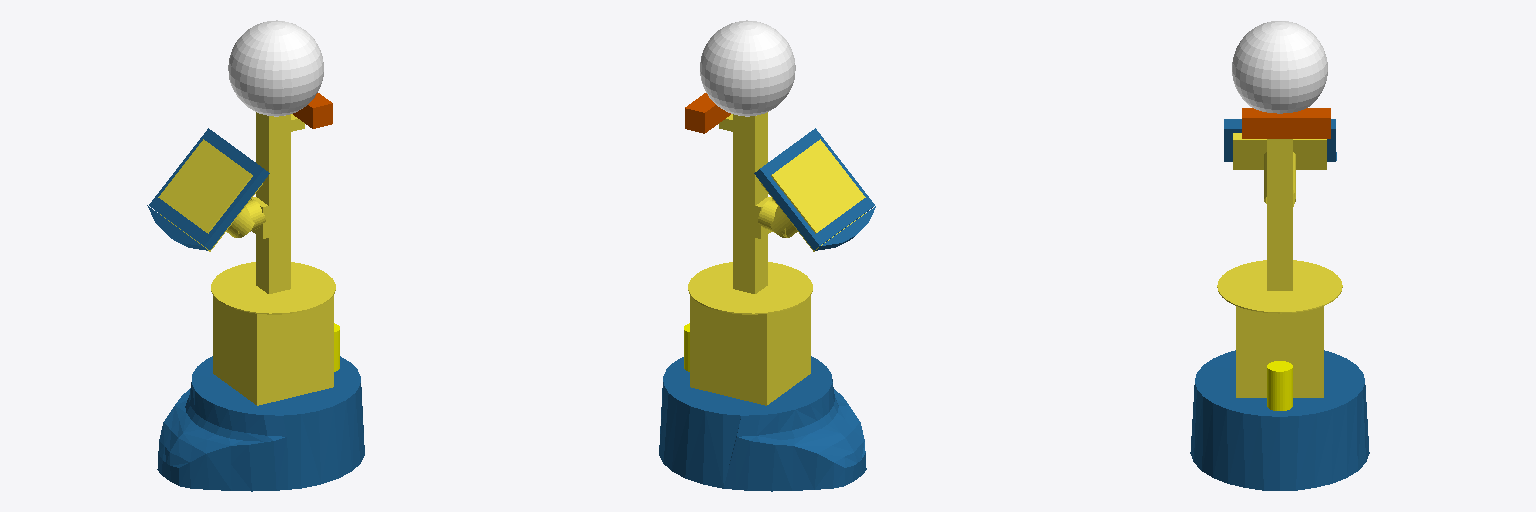
robot.urdf — scitosG5:
<?xml version="1.0" encoding="utf-8"?>
<!-- =================================================================================== -->
<!-- |    This document was autogenerated by xacro from [local-path]/workspaces/driver_ws/src/scitos-g5/scitos_common/scitos_description/urdf/cs_scitos.xacro | -->
<!-- |    EDITING THIS FILE BY HAND IS NOT RECOMMENDED                                 | -->
<!-- =================================================================================== -->
<robot name="scitosG5" xmlns:body="http://playerstage.sourceforge.net/gazebo/xmlschema/#body" xmlns:controller="http://playerstage.sourceforge.net/gazebo/xmlschema/#controller" xmlns:gazebo="http://playerstage.sourceforge.net/gazebo/xmlschema/#gz" xmlns:geom="http://playerstage.sourceforge.net/gazebo/xmlschema/#geom" xmlns:interface="http://playerstage.sourceforge.net/gazebo/xmlschema/#interface" xmlns:joint="http://playerstage.sourceforge.net/gazebo/xmlschema/#joint" xmlns:model="http://playerstage.sourceforge.net/gazebo/xmlschema/#model" xmlns:physics="http://playerstage.sourceforge.net/gazebo/xmlschema/#physics" xmlns:renderable="http://playerstage.sourceforge.net/gazebo/xmlschema/#renderable" xmlns:rendering="http://playerstage.sourceforge.net/gazebo/xmlschema/#rendering" xmlns:sensor="http://playerstage.sourceforge.net/gazebo/xmlschema/#sensor" xmlns:xi="http://www.w3.org/2001/XInclude">
  <!-- materials -->
  <material name="Red">
    <color rgba="0.8 0.0 0.0 1.0"/>
  </material>
  <material name="Black">
    <color rgba="0.02 0.02 0.02 1.0"/>
  </material>
  <material name="Aluminium">
    <color rgba="0.65 0.65 0.65 1.0"/>
  </material>
  <material name="white">
    <color rgba="1 1 1 1"/>
  </material>
  <material name="black">
    <color rgba="0 0 0 1"/>
  </material>
  <material name="red">
    <color rgba="1 0 0 1"/>
  </material>
  <material name="green">
    <color rgba="0 1 0 1"/>
  </material>
  <material name="blue">
    <color rgba="0 0 1 1"/>
  </material>
  <material name="yellow">
    <color rgba="1 1 0 1"/>
  </material>
  <material name="darkgray">
    <color rgba="0.3 0.3 0.3 1"/>
  </material>
  <material name="gray">
    <color rgba="0.7 0.7 0.7 1"/>
  </material>
  <material name="glass">
    <color rgba="1 1 1 0.2"/>
  </material>
  <!-- base_footprint : a fictional link that is on the floor plane, needed for move_base -->
  <link name="base_footprint">
    <visual>
      <origin rpy="0 0 0" xyz="0 0 0"/>
      <geometry>
        <box size="0 0 0"/>
      </geometry>
      <material name="Red"/>
    </visual>
    <collision>
      <origin rpy="0 0 0" xyz="0 0 0"/>
      <geometry>
        <box size="0 0 0"/>
      </geometry>
    </collision>
  </link>
  <!-- base_prismatic : a fictional link that is on the floor plane, needed for moveit -->
  <link name="base_prismatic">
    <visual>
      <origin rpy="0 0 0" xyz="0 0 0"/>
      <geometry>
        <box size="0 0 0"/>
      </geometry>
      <material name="Red"/>
    </visual>
    <collision>
      <origin rpy="0 0 0" xyz="0 0 0"/>
      <geometry>
        <box size="0 0 0"/>
      </geometry>
    </collision>
  </link>
  <!-- base_revolute : a fictional link that is on the floor plane, needed for moveit -->
  <link name="base_revolute">
    <visual>
      <origin rpy="0 0 0" xyz="0 0 0"/>
      <geometry>
        <box size="0 0 0"/>
      </geometry>
      <material name="Red"/>
    </visual>
    <collision>
      <origin rpy="0 0 0" xyz="0 0 0"/>
      <geometry>
        <box size="0 0 0"/>
      </geometry>
    </collision>
  </link>
  <!-- Base link is the actual robot body -->
  <link name="base_link">
    <visual>
      <origin rpy="0 0 0" xyz="0 0 0"/>
      <geometry>
        <mesh filename="package://scitos_description/meshes/cs_scitos_kinect_fixture.dae"/>
      </geometry>
    </visual>
    <collision>
      <origin rpy="0 0 0" xyz="0 0 0.3"/>
      <geometry>
        <cylinder length="0.6" radius="0.2"/>
      </geometry>
    </collision>
  </link>
  <!-- Base revolute -> Base prismatic -->
  <joint name="base_revolute_joint" type="revolute">
    <origin rpy="0 0 0" xyz="0 0 0.0"/>
    <axis xyz="0 0 1"/>
    <parent link="base_revolute"/>
    <child link="base_prismatic"/>
    <limit effort="300" lower="-10" upper="10" velocity="1.5"/>
  </joint>
  <!-- Base prismatic -> Base footprint -->
  <joint name="base_prismatic_joint" type="prismatic">
    <origin rpy="0 0 0" xyz="0 0 0.0"/>
    <axis xyz="1 0 0"/>
    <parent link="base_prismatic"/>
    <child link="base_footprint"/>
    <limit effort="300" lower="-10" upper="10" velocity="1.5"/>
  </joint>
  <!-- Base footprint -> base_link -->
  <joint name="base_footprint_joint" type="fixed">
    <origin rpy="0 0 0" xyz="0 0 0.021"/>
    <parent link="base_footprint"/>
    <child link="base_link"/>
  </joint>
  <!-- base_link -> base_laser_link -->
  <joint name="base_laser_joint" type="fixed">
    <axis xyz="0 1 0"/>
    <origin rpy="0.0 0.0 0.0" xyz="0.1094 0 0.3848"/>
    <parent link="base_link"/>
    <child link="base_laser_link"/>
  </joint>
  <!-- the laser -->
  <link name="base_laser_link" type="laser">
    <visual>
      <origin rpy="0 0 0" xyz="0 0 -0.09"/>
      <geometry>
        <cylinder length="0.18" radius="0.04"/>
      </geometry>
      <material name="yellow"/>
    </visual>
    <collision>
      <origin rpy="0 0 0" xyz="0 0 -0.09"/>
      <geometry>
        <cylinder length="0.18" radius="0.04"/>
      </geometry>
      <material name="yellow"/>
    </collision>
  </link>
  <!-- base_link -> base_kinect_link -->
  <joint name="base_kinect_joint" type="fixed">
    <axis xyz="0 1 0"/>
    <origin rpy="0.0 0.0 0.0" xyz="0.025 0.02 1.18"/>
    <parent link="base_link"/>
    <child link="base_kinect_link"/>
  </joint>
  <!-- the kinect -->
  <link name="base_kinect_link" type="camera">
    <visual>
      <origin rpy="0 0 -1.5707963267948966" xyz=" 0 0 0 "/>
      <geometry>
        <mesh filename="package://scitos_description/meshes/kinect2.dae" scale="0.001 0.001 0.001"/>
      </geometry>
      <origin rpy="0 0 0" xyz="0.0 0.0 0.0"/>
      <geometry>
        <box size="0.0730 0.2760 0.0720"/>
      </geometry>
    </visual>
    <collision>
      <origin rpy="0 0 0" xyz="0.0 0.0 0.0"/>
      <geometry>
        <box size="0.0730 0.2760 0.0720"/>
      </geometry>
    </collision>
  </link>
  <!-- Collision Model Torso  -->
  <joint name="base_link_to_torse_mid" type="fixed">
    <parent link="base_link"/>
    <child link="torso_mid"/>
    <origin xyz="-0.085 0.0 0.8781"/>
  </joint>
  <link name="torso_mid">
    <collision>
      <origin rpy="0 0 0" xyz="0 0 0.0"/>
      <geometry>
        <box size="0.081 0.081 0.620"/>
      </geometry>
    </collision>
    <!--    <visual>
      <origin rpy="0 0 0" xyz="0 0 0.0"/>
      <geometry>
\t\t<box size="0.081 0.081 0.620"/>
      </geometry>
<material name="yellow" />
    </visual>-->
  </link>
  <!-- Collision Model Monitor  -->
  <joint name="base_link_to_monitor" type="fixed">
    <parent link="base_link"/>
    <child link="monitor"/>
    <origin xyz="-0.32 0.0 0.92"/>
  </joint>
  <link name="monitor">
    <!-- <visual>
      <origin rpy="0 0 0" xyz="0 0 0.0"/>
      <geometry>
\t\t<box size="0.32 0.35 0.3"/>
        <material name="yellow" />
    </geometry>
      </visual> -->
    <collision>
      <origin rpy="0 0 0" xyz="0 0 0.0"/>
      <geometry>
        <box size="0.31 0.35 0.4"/>
      </geometry>
    </collision>
  </link>
  <!-- Collision Model torso plate -->
  <joint name="base_link_to_torso_plate" type="fixed">
    <parent link="base_link"/>
    <child link="torso_plate"/>
    <origin xyz="-0.085 0.0 0.5681"/>
  </joint>
  <link name="torso_plate">
    <!--<visual>
      <origin rpy="0 0 0" xyz="0 0 -0.005"/>
      <geometry>
\t\t<cylinder length="0.01" radius="0.195"/>
        <material name="yellow" />
    </geometry>
      </visual>-->
    <collision>
      <origin rpy="0 0 0" xyz="0 0 -0.005"/>
      <geometry>
        <cylinder length="0.01" radius="0.195"/>
      </geometry>
    </collision>
  </link>
  <!-- Collision Model pc_box -->
  <joint name="base_link_to_pc_box" type="fixed">
    <parent link="base_link"/>
    <child link="pc_box"/>
    <origin xyz="-0.085 0.0 0.5581"/>
  </joint>
  <link name="pc_box">
    <!--<visual>
      <origin rpy="0 0 0" xyz="0 0 -0.159"/>
      <geometry>
\t\t<box size="0.276 0.276 0.308"/>
        <material name="yellow" />
    </geometry>
      </visual>-->
    <collision>
      <origin rpy="0 0 0" xyz="0 0 -0.159"/>
      <geometry>
        <box size="0.276 0.276 0.318"/>
      </geometry>
    </collision>
  </link>
  <!-- Collision Model jaco_fixture -->
  <joint name="base_link_to_jaco_fixture" type="fixed">
    <parent link="base_link"/>
    <child link="jaco_fixture"/>
    <origin xyz="-0.085 -0.225 0.85345"/>
  </joint>
  <link name="jaco_fixture">
    <!--<visual>
      <origin rpy="0 0 0" xyz="0 0.065 -0.067"/>
      <geometry>
\t\t<box size="0.08 0.23 0.085"/>
        <material name="yellow" />
    </geometry>
      </visual>-->
    <collision>
      <origin rpy="0 0 0" xyz="0 0.065 -0.067"/>
      <geometry>
        <box size="0.08 0.23 0.085"/>
      </geometry>
    </collision>
  </link>
  <!-- Collision Model kinect_fixture -->
  <joint name="base_link_to_kinect_fixture" type="fixed">
    <parent link="base_link"/>
    <child link="kinect_fixture"/>
    <origin xyz="0.025 0.02 1.18"/>
  </joint>
  <link name="kinect_fixture">
    <!--<visual>
      <origin rpy="0 0 0" xyz="-0.04 0 -0.075"/>
      <geometry>
\t\t<box size="0.055 0.035 0.047"/>
        <material name="yellow" />
    </geometry>
      </visual>-->
    <collision>
      <origin rpy="0 0 0" xyz="-0.04 0 -0.075"/>
      <geometry>
        <box size="0.055 0.035 0.045"/>
      </geometry>
    </collision>
  </link>
  <!-- HEAD -->
  <link name="head_base_frame">
    <visual>
      <geometry>
        <sphere radius="0.15"/>
      </geometry>
      <material name="glass"/>
    </visual>
    <collision>
      <geometry>
        <sphere radius="0.17"/>
      </geometry>
    </collision>
  </link>
  <joint name="base_link_to_head" type="fixed">
    <parent link="base_link"/>
    <child link="head_base_frame"/>
    <origin xyz="-0.075 0 1.32"/>
  </joint>
  <link name="head_swivel_frame">
    <visual>
      <geometry>
        <cylinder length="0.1" radius="0.05"/>
      </geometry>
      <material name="gray"/>
    </visual>
  </link>
  <joint name="HeadPan" type="revolute">
    <parent link="head_base_frame"/>
    <child link="head_swivel_frame"/>
    <axis xyz="0 0 1"/>
    <limit effort="30" lower="-4.537856055185257" upper="1.3962634015954636" velocity="10"/>
  </joint>
  <link name="head_frame">
    <visual>
      <geometry>
        <box size="0.175 0.19 0.07"/>
      </geometry>
      <origin rpy="0 0 0" xyz="0 0 0.02"/>
      <material name="gray"/>
    </visual>
  </link>
  <joint name="HeadTilt" type="revolute">
    <parent link="head_swivel_frame"/>
    <child link="head_frame"/>
    <axis xyz="0 1 0"/>
    <limit effort="30" lower="-0.17453292519943295" upper="0.17453292519943295" velocity="10"/>
  </joint>
  <link name="left_eye_frame">
    <visual>
      <geometry>
        <sphere radius="0.025"/>
      </geometry>
      <material name="white"/>
    </visual>
  </link>
  <joint name="HeadToLeftEyeBase" type="fixed">
    <parent link="head_frame"/>
    <child link="left_eye_base_frame"/>
    <origin xyz="0.08 0.05 0.02"/>
  </joint>
  <joint name="EyesTilt" type="revolute">
    <parent link="left_eye_base_frame"/>
    <child link="left_eye_swivel_frame"/>
    <axis xyz="0 1 0"/>
    <limit effort="30" lower="-3.1415926535897931" upper="3.1415926535897931" velocity="10"/>
  </joint>
  <joint name="EyesPan" type="revolute">
    <parent link="left_eye_swivel_frame"/>
    <child link="left_eye_frame"/>
    <axis xyz="0 0 1"/>
    <limit effort="30" lower="-3.1415926535897931" upper="3.1415926535897931" velocity="10"/>
  </joint>
  <link name="right_eye_frame">
    <visual>
      <geometry>
        <sphere radius="0.025"/>
      </geometry>
      <material name="white"/>
    </visual>
  </link>
  <joint name="head_to_right_eye_base" type="fixed">
    <parent link="head_frame"/>
    <child link="right_eye_base_frame"/>
    <origin xyz="0.08 -0.05 0.02"/>
  </joint>
  <joint name="RightEyeBaseToRightEyeSwivel" type="revolute">
    <parent link="right_eye_base_frame"/>
    <child link="right_eye_swivel_frame"/>
    <axis xyz="0 1 0"/>
    <limit effort="30" lower="-3.1415926535897931" upper="3.1415926535897931" velocity="10"/>
    <mimic joint="EyesTilt"/>
  </joint>
  <joint name="RightEyeSwivelToRightEye" type="revolute">
    <parent link="right_eye_swivel_frame"/>
    <child link="right_eye_frame"/>
    <axis xyz="0 0 1"/>
    <limit effort="30" lower="-3.1415926535897931" upper="3.1415926535897931" velocity="10"/>
    <mimic joint="EyesPan"/>
  </joint>
  <link name="right_eye_base_frame"/>
  <link name="left_eye_base_frame"/>
  <link name="right_eye_swivel_frame"/>
  <link name="left_eye_swivel_frame"/>
</robot>

--- Facts derived from the render (not from the file) ---
Views: 3 orthographic renders of the robot side by side, from view 1: azimuth 30°, elevation 25°; view 2: azimuth 150°, elevation 25°; view 3: azimuth 270°, elevation 25°.
Model scitosG5 with 21 links and 20 joints (7 revolute, 1 prismatic, 12 fixed), rooted at base_revolute, posed all joints at 0.
Visible links, largest first — view 1: base_link, head_base_frame, base_kinect_link; view 2: base_link, head_base_frame, base_kinect_link; view 3: base_link, head_base_frame, base_kinect_link, base_laser_link.
Link boxes in pixels (x1,y1,x2,y2): base_link: (147, 112, 364, 491); head_base_frame: (228, 20, 323, 116); base_kinect_link: (293, 93, 332, 128); base_link: (659, 112, 875, 491); head_base_frame: (700, 20, 795, 116); base_kinect_link: (685, 93, 730, 133); base_link: (1190, 119, 1369, 490); head_base_frame: (1232, 21, 1327, 113); base_kinect_link: (1242, 108, 1330, 138); base_laser_link: (1267, 361, 1292, 410).
Bounding box of the posed robot: 0.6774 × 0.5569 × 1.49 m (x, y, z).
Meshes: 1 distinct files referenced, 1 mesh visuals loaded (1 Collada DAE).